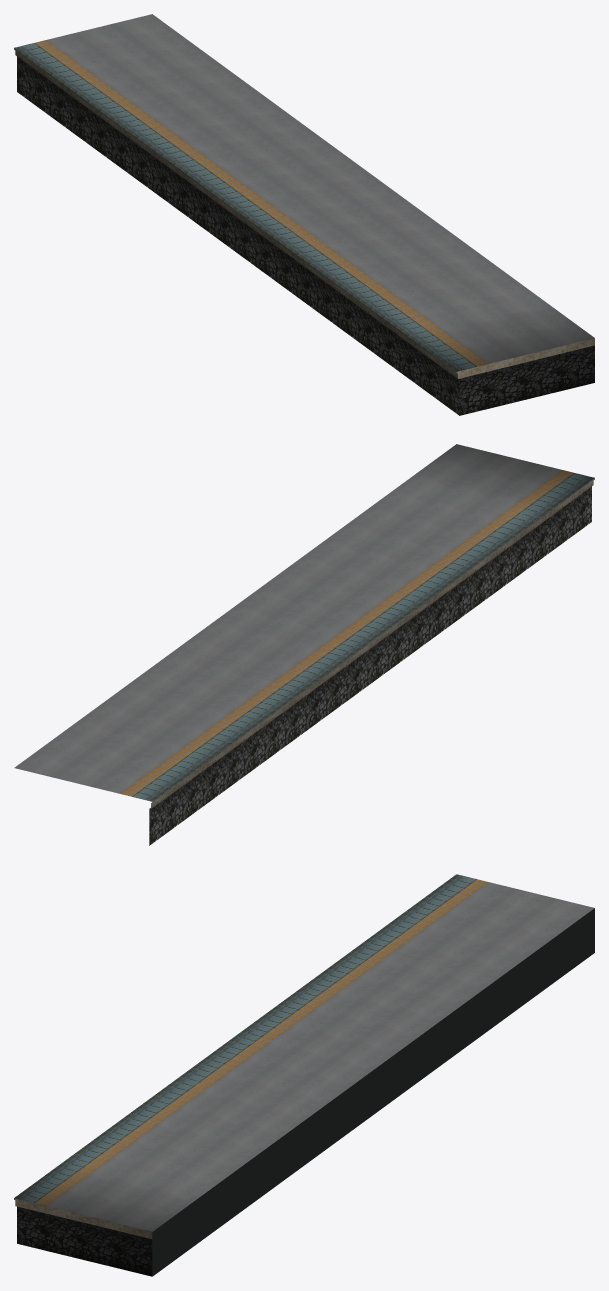
File: AMB_MEI_HOME3.glb
The picture shows the model from 3 angles, top to bottom: view 1: azimuth 30°, elevation 25°; view 2: azimuth 150°, elevation 25°; view 3: azimuth 330°, elevation 25°; orthographic projection.
Visible parts, largest first — view 1: Mesh1; view 2: Mesh1; view 3: Mesh1.
Boxes of the visible parts, left/top/right/bottom form: Mesh1: left=14, top=14, right=594, bottom=415; Mesh1: left=14, top=444, right=594, bottom=845; Mesh1: left=14, top=874, right=594, bottom=1276.
Size of the model in its own units: 18.06 by 5.59 by 100.
Materials: 7 (7 with a texture image).
